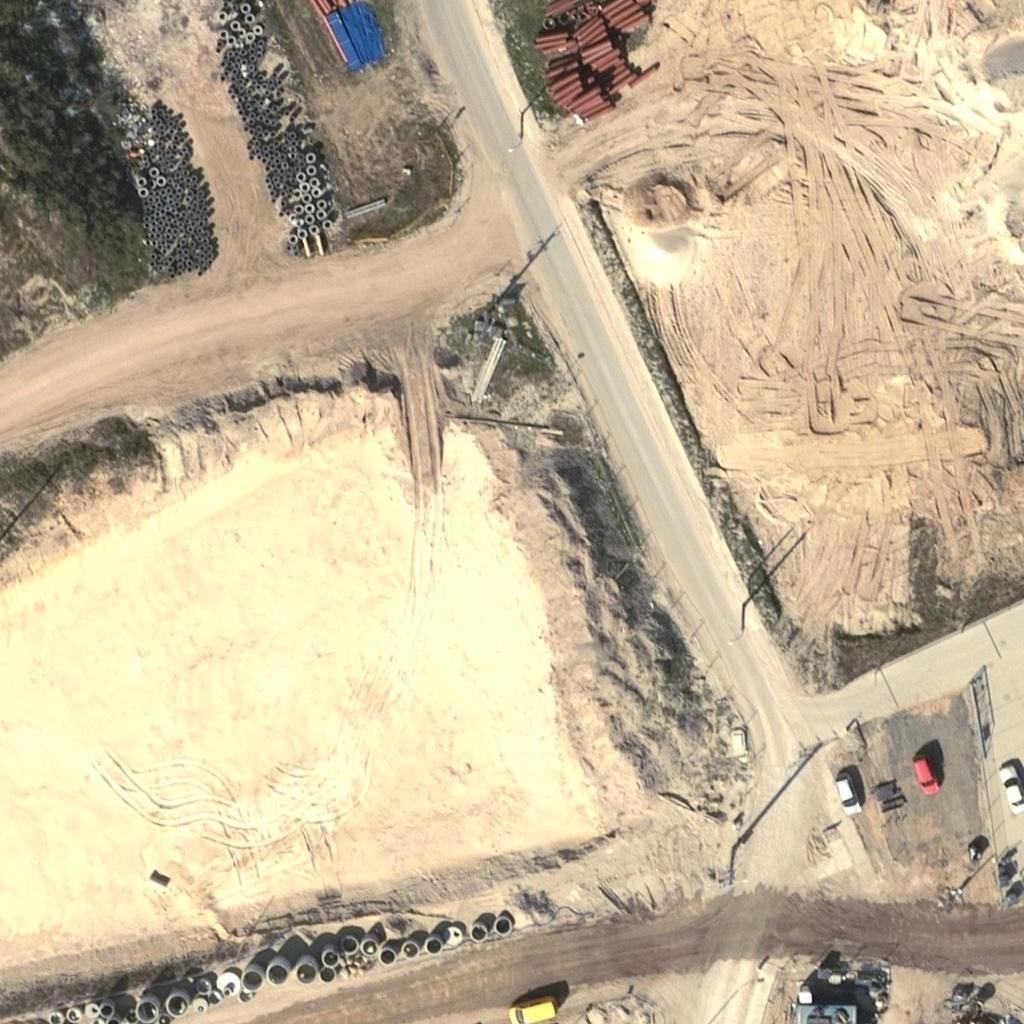samochod_osobowy: (826, 773, 866, 820), (992, 764, 1024, 819), (504, 994, 562, 1024), (908, 757, 945, 800)
